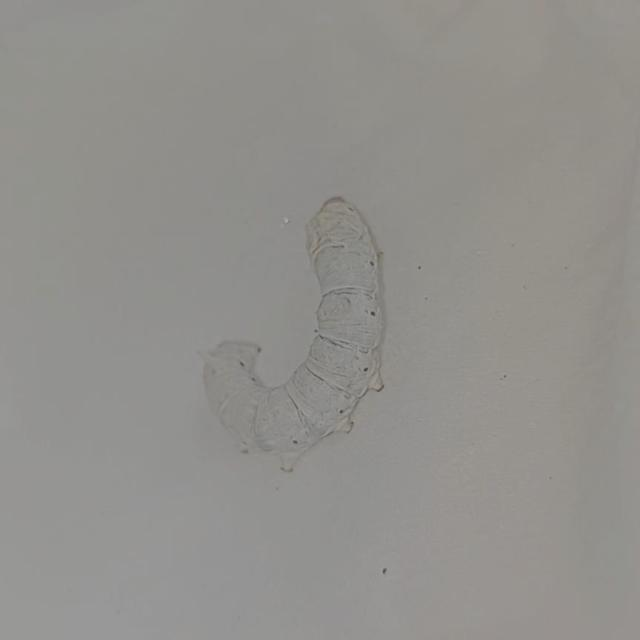Healthy: (197, 191, 415, 483)
